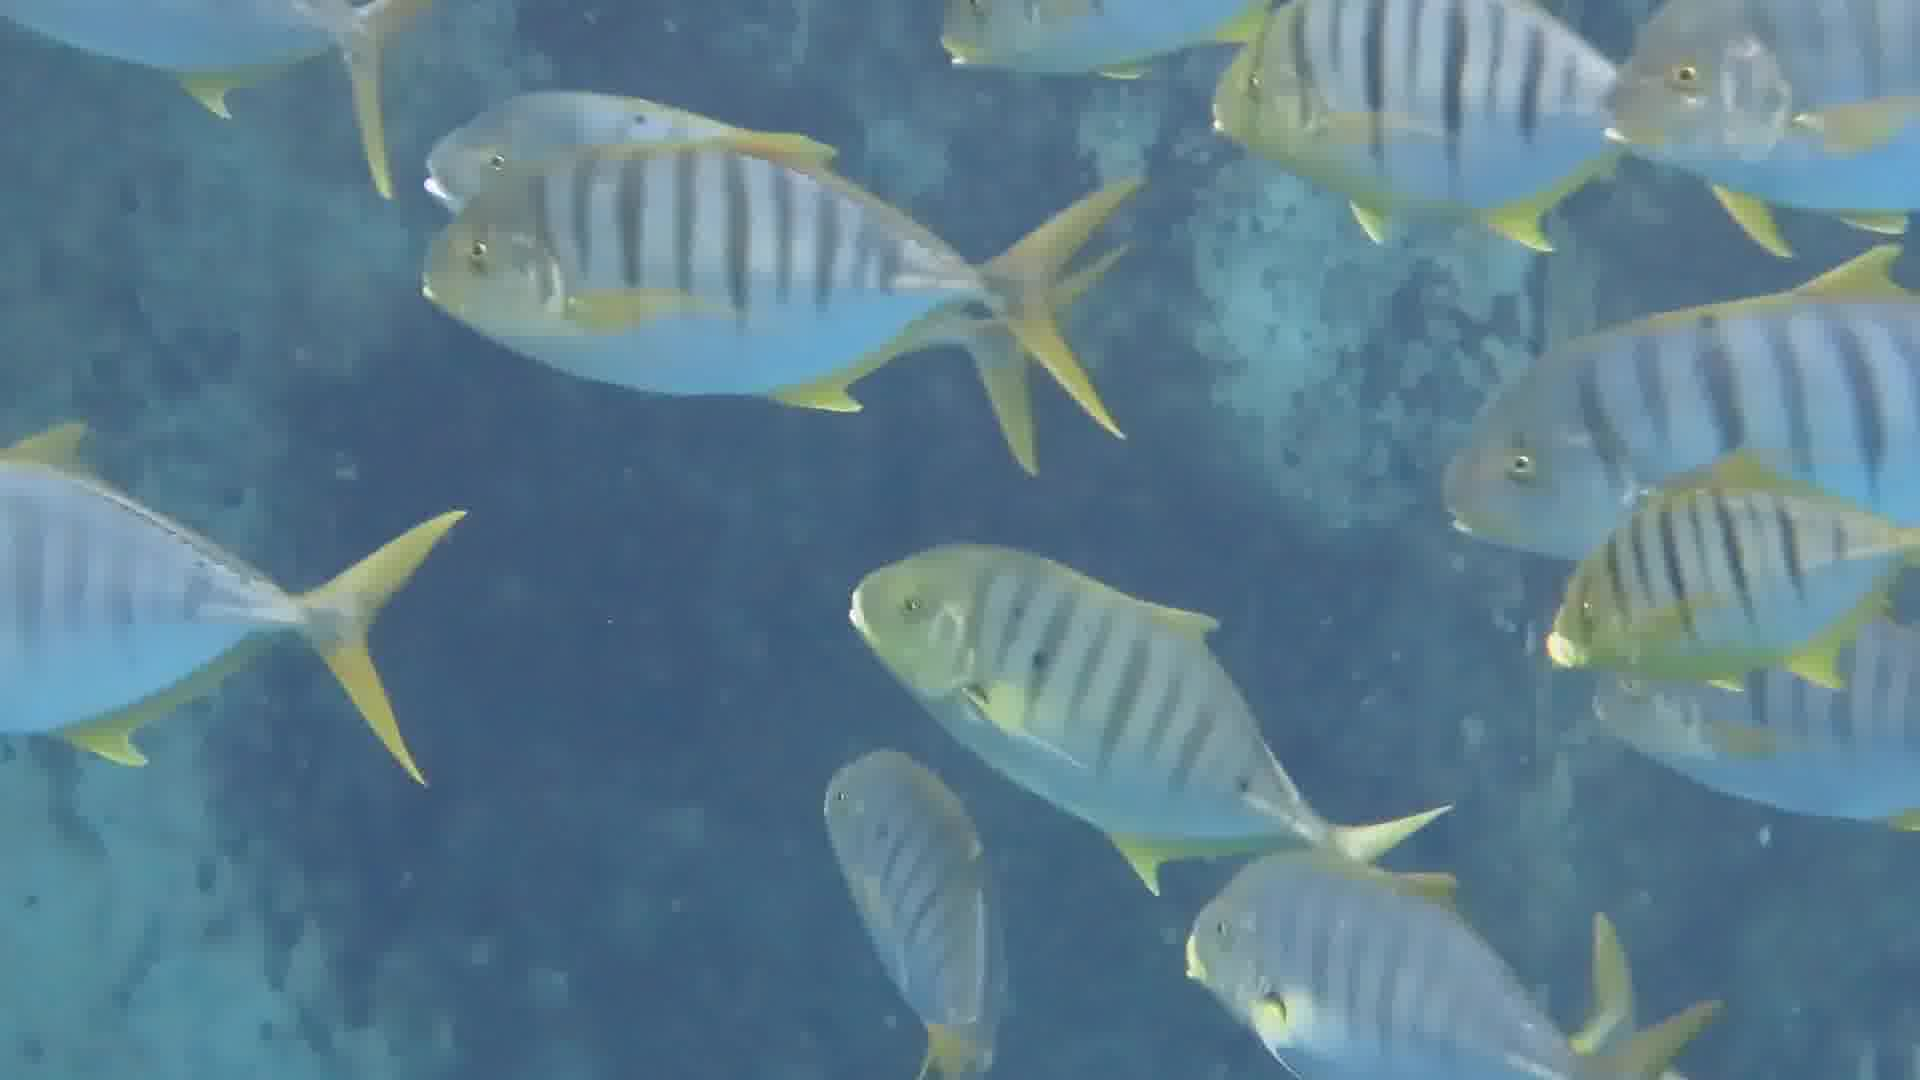Gnathanodon speciosus: (836, 531, 1311, 866), (423, 186, 1097, 415), (1414, 262, 1913, 546), (1159, 865, 1629, 1080), (1193, 3, 1640, 224), (1536, 489, 1911, 709), (1600, 7, 1915, 232)
